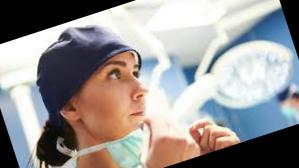mask_weared_incorrect: (83, 52, 173, 162)
with_mask: (277, 94, 299, 121)
